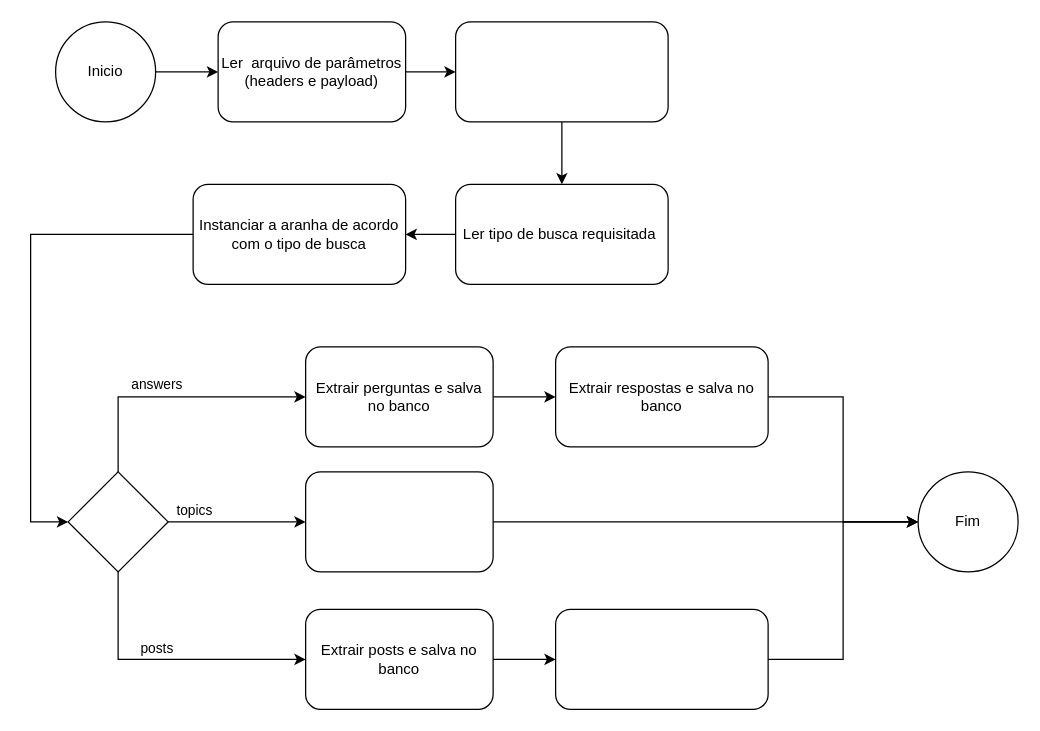
This 1040x731 diagram has some shape labels left out. Here are the shapes that lost their labels. From the top down, the box of each, then its label:
(454, 21, 668, 122): Ler arquivo de palavras-chave
(67, 471, 168, 572): Tipo de busca?
(304, 471, 493, 572): Extrair topics e salva no banco
(554, 608, 768, 709): Extrair spaces e salva no banco
